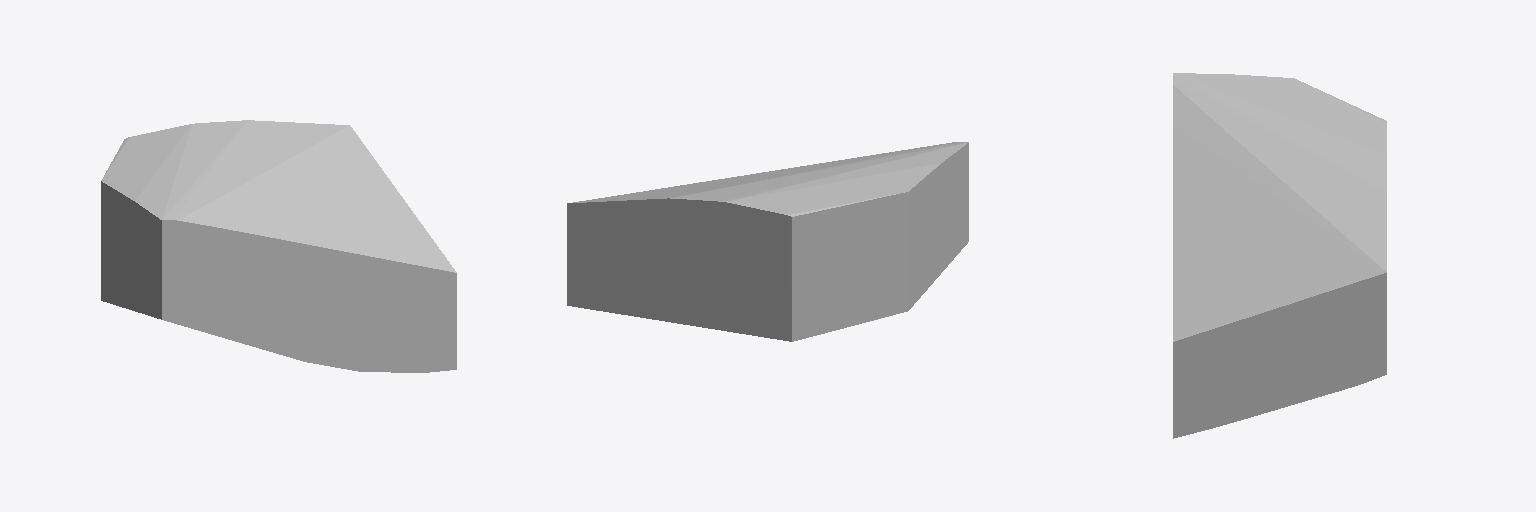
File: phantom-elastrat_collision_482.obj
3 renders of one model, left to right at view 1: azimuth 30°, elevation 25°; view 2: azimuth 150°, elevation 25°; view 3: azimuth 270°, elevation 25°, orthographic.
Size of the model in its own units: 0.0054 by 0.0039 by 0.0034.